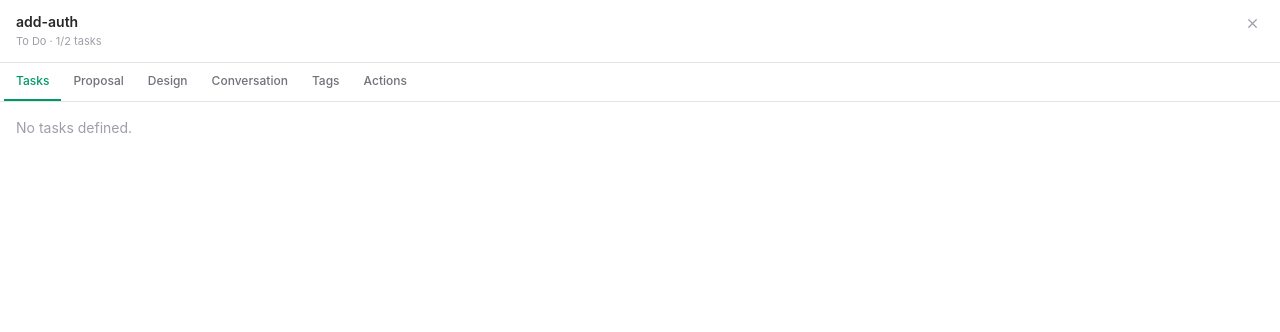
DetailPanel verification section › shows the error and keeps the saved selection when saving fails
Click the button "Actions" at (385, 82), box [352,63,419,101]
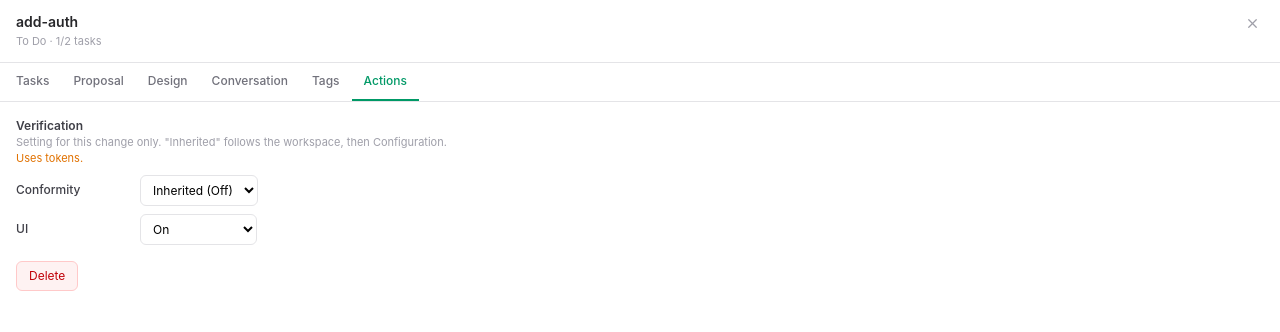
Select "Off" in the dropdown named "UI" at (198, 229), box [140,214,257,245]
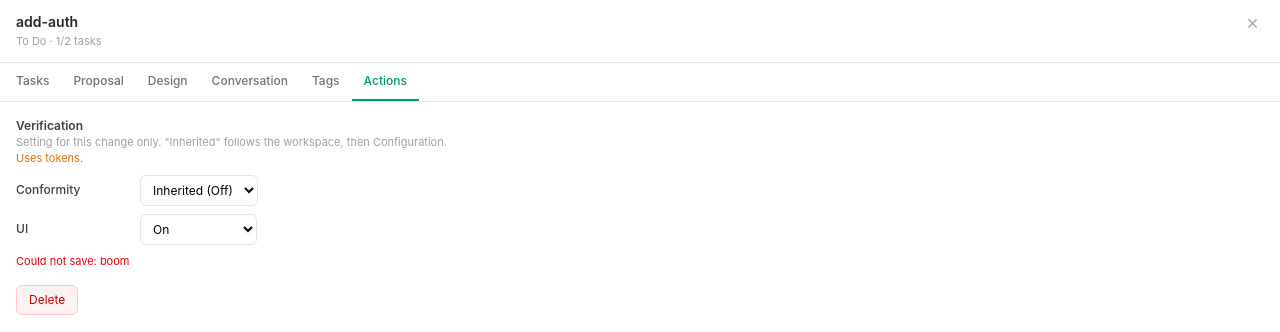
Result: the message shows "boom" at [16,254,130,268]
